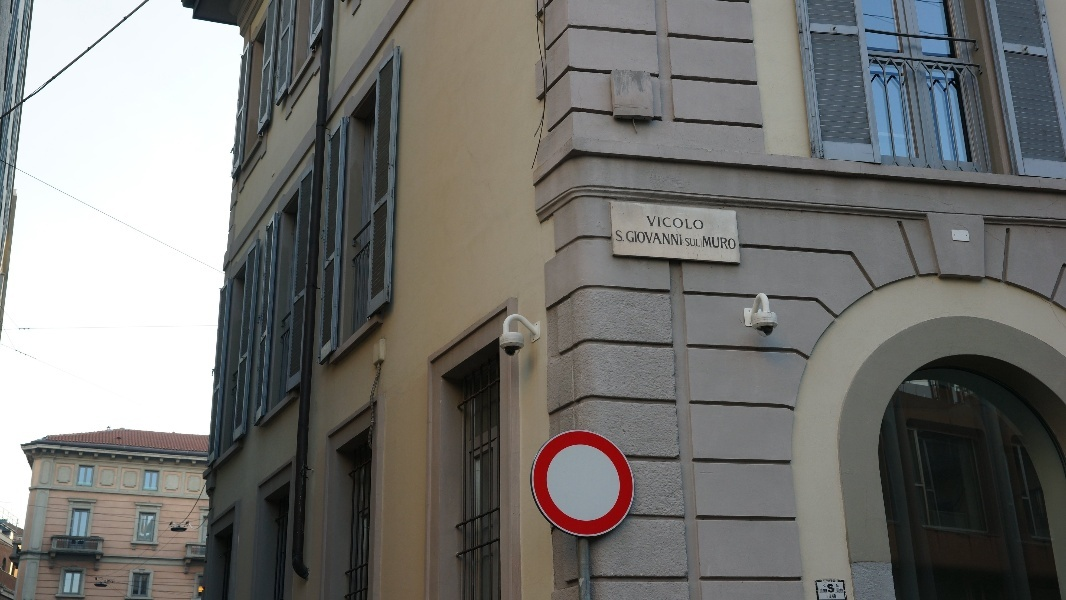text: (641, 231, 656, 246), (657, 231, 672, 246), (689, 216, 705, 230), (657, 216, 672, 230), (673, 216, 688, 230), (626, 231, 640, 246), (721, 237, 737, 250), (705, 237, 720, 250), (673, 231, 684, 246), (646, 216, 656, 230), (689, 238, 701, 247), (616, 231, 624, 242), (827, 584, 832, 593), (837, 584, 848, 588), (837, 589, 848, 593), (821, 589, 832, 593), (822, 580, 832, 583), (685, 238, 688, 247), (824, 585, 832, 588), (833, 584, 835, 593), (833, 580, 838, 583), (829, 594, 832, 599), (833, 594, 836, 599), (703, 237, 704, 250)
